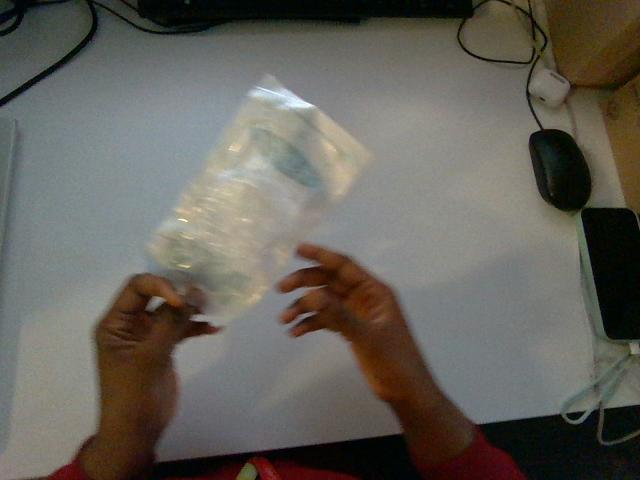gallipot: (148, 76, 369, 321)
